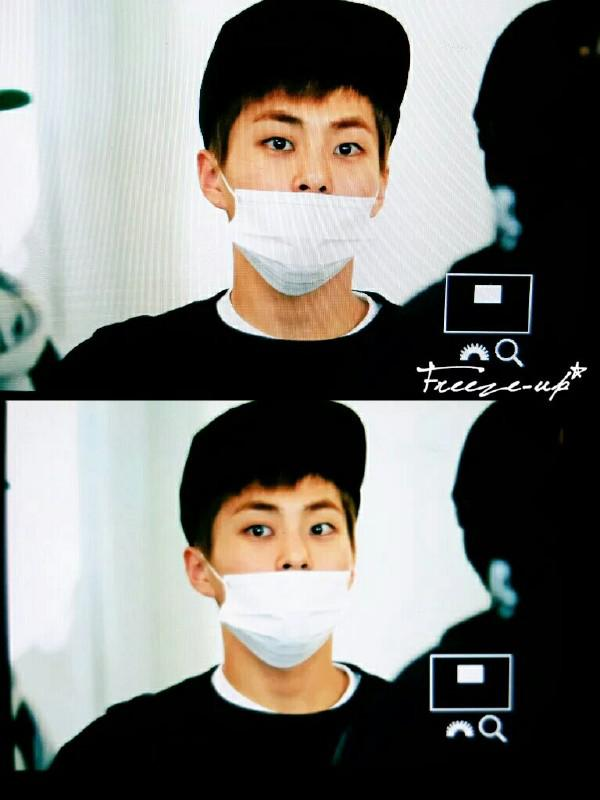WRONG: (225, 86, 380, 295), (210, 478, 351, 669)
